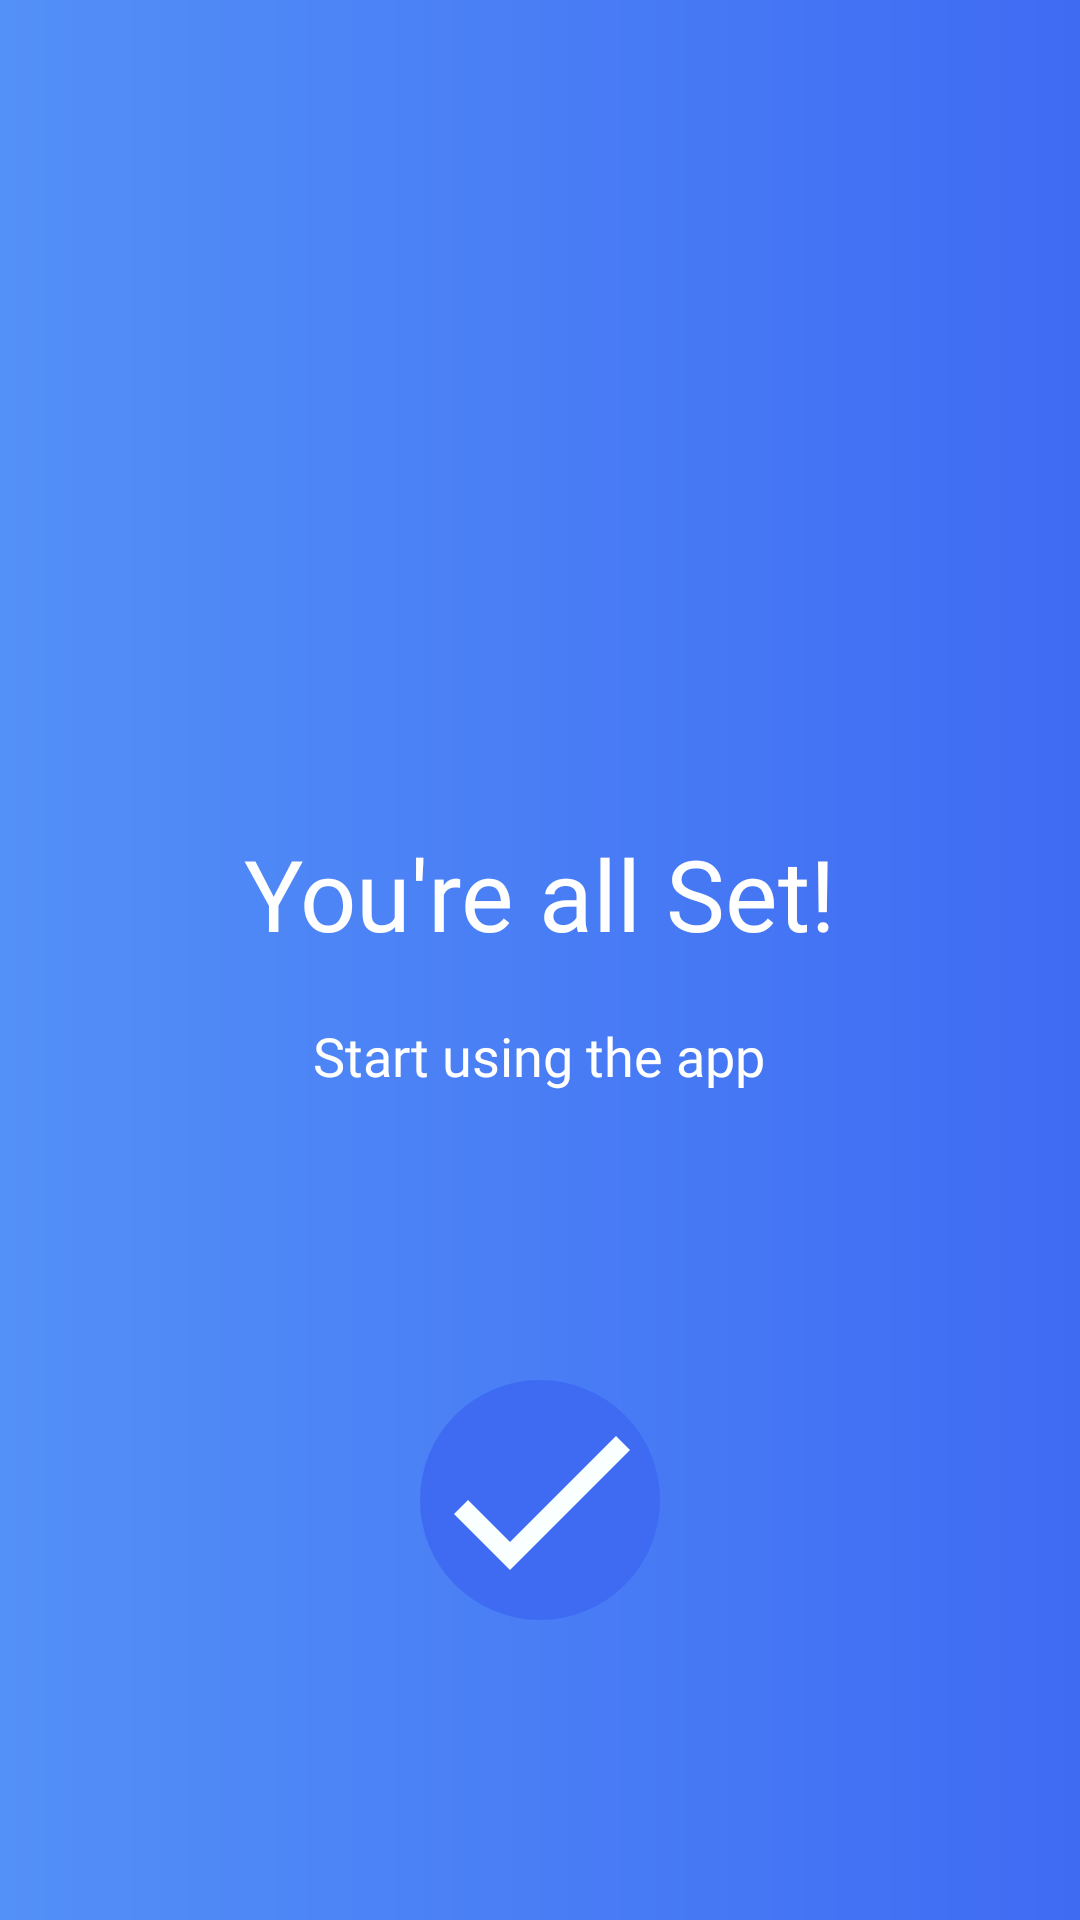

Where to tap for icons on this 1080*1920 app screen, as [x,y]:
proceedbutton: [540,1500]
